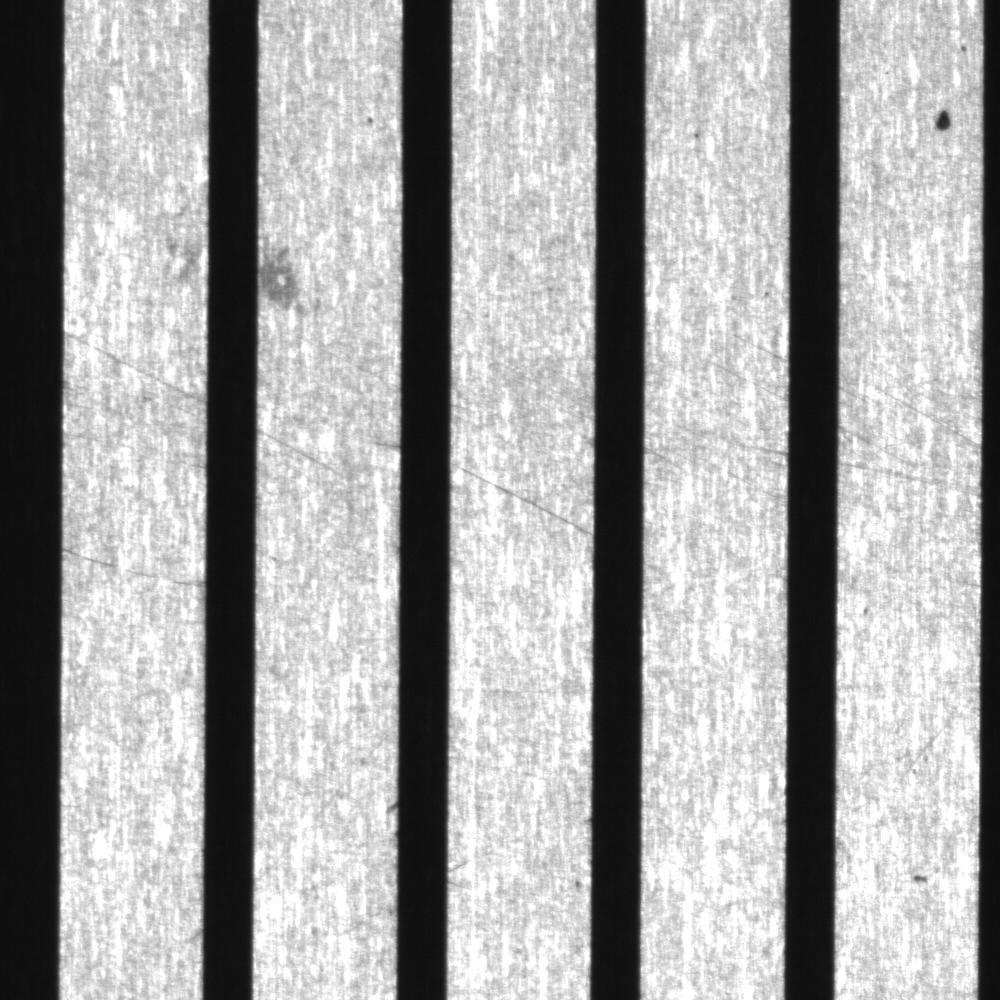Discolor: (256, 215, 328, 323)
Etching: (925, 92, 971, 142), (370, 791, 400, 858), (901, 859, 942, 898)
Pinhole: (350, 101, 387, 145), (947, 26, 981, 63), (679, 124, 711, 145)
Scar: (642, 398, 789, 507), (66, 320, 203, 415), (447, 457, 593, 543), (840, 360, 976, 442), (476, 348, 593, 431), (56, 538, 208, 597), (258, 424, 369, 499), (841, 451, 983, 502), (889, 717, 953, 804), (302, 338, 392, 391), (724, 313, 789, 367)
